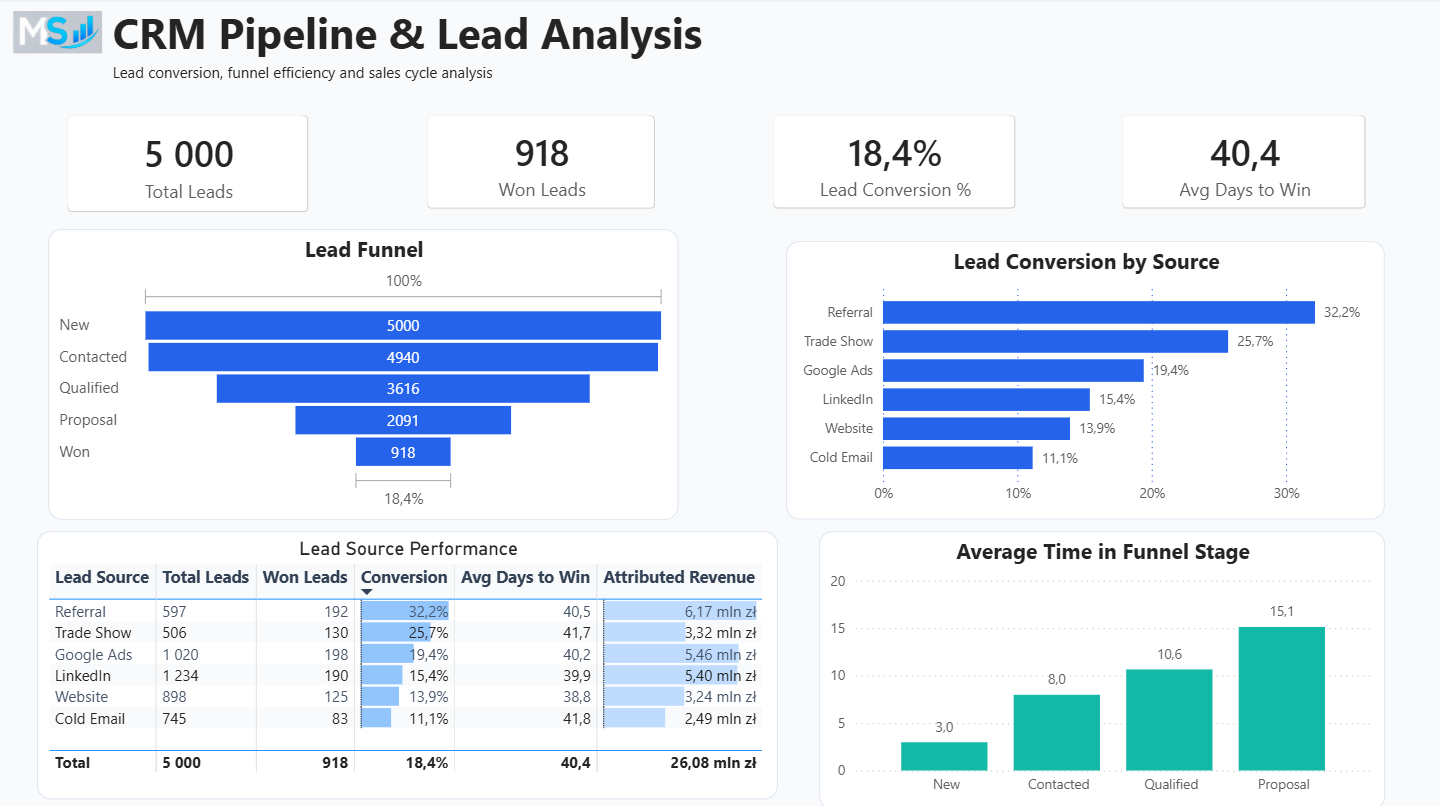

This screenshot's page, from the dashboard's own definition file:
{"tool":"powerbi","page":{"name":"CRM Pipeline","canvas":[1280,720],"ordinal":1},"visuals":[{"type":"image","box":[0,9,103.9,43],"z":0},{"type":"textbox","box":[95.8,0,556.1,61.8],"z":1000},{"type":"textbox","box":[95.8,51.9,377.9,30.4],"z":2000},{"type":"cardVisual","fields":{"Data":["Sales_Details.Total Leads Display"]},"box":[43.7,86.8,249,120],"z":7000},{"type":"cardVisual","fields":{"Data":["Lead_Source_Performance.Won Leads"]},"box":[363,86.8,236.4,117.3],"z":8000},{"type":"cardVisual","fields":{"Data":["Lead_Source_Performance.Lead Conversion %"]},"box":[669.8,86.9,249.2,117],"z":9000},{"type":"cardVisual","fields":{"Data":["Lead_Source_Performance.Avg Days to Win"]},"box":[978.9,86.9,250,117],"z":10000},{"type":"funnel","title":"Lead Funnel","fields":{"Category":["Pipeline_Stage_Performance.status"],"Y":["Sum(Pipeline_Stage_Performance.leads_reaching_stage)"]},"box":[43.4,204.8,558.6,258],"z":11000},{"type":"clusteredBarChart","title":"Lead Conversion by Source","fields":{"Category":["Lead_Source_Performance.lead_source"],"Y":["Lead_Source_Performance.Lead Conversion %"]},"box":[697.6,215.8,531,247.2],"z":12000},{"type":"tableEx","title":"Lead Source Performance","fields":{"Values":["Lead_Source_Performance.lead_source","Sales_Details.Total Leads","Lead_Source_Performance.Won Leads","Lead_Source_Performance.Lead Conversion %","Lead_Source_Performance.Avg Days to Win","Sales_Details.Attributed Revenue mln"]},"box":[33.7,472.6,657,237.6],"z":13000},{"type":"clusteredColumnChart","title":"Average Time in Funnel Stage","fields":{"Category":["Lead_Stage_Durations.status"],"Y":["Lead_Stage_Durations.Avg Days in Stage"]},"box":[727.1,472.6,501.9,247.4],"z":14000}]}

Visuals, with their boxes in screenshot pixels (x1, y1, x2, y2), scaled from the page's 1280x720 canvas onto the 1440x806 screenshot:
image: bbox=(0, 10, 117, 58)
textbox: bbox=(108, 0, 733, 69)
textbox: bbox=(108, 58, 533, 92)
cardVisual - Sales_Details.Total Leads Display: bbox=(49, 97, 329, 232)
cardVisual - Lead_Source_Performance.Won Leads: bbox=(408, 97, 674, 228)
cardVisual - Lead_Source_Performance.Lead Conversion %: bbox=(754, 97, 1034, 228)
cardVisual - Lead_Source_Performance.Avg Days to Win: bbox=(1101, 97, 1383, 228)
"Lead Funnel" funnel: bbox=(49, 229, 677, 518)
"Lead Conversion by Source" clusteredBarChart: bbox=(785, 242, 1382, 518)
"Lead Source Performance" tableEx: bbox=(38, 529, 777, 795)
"Average Time in Funnel Stage" clusteredColumnChart: bbox=(818, 529, 1383, 805)
